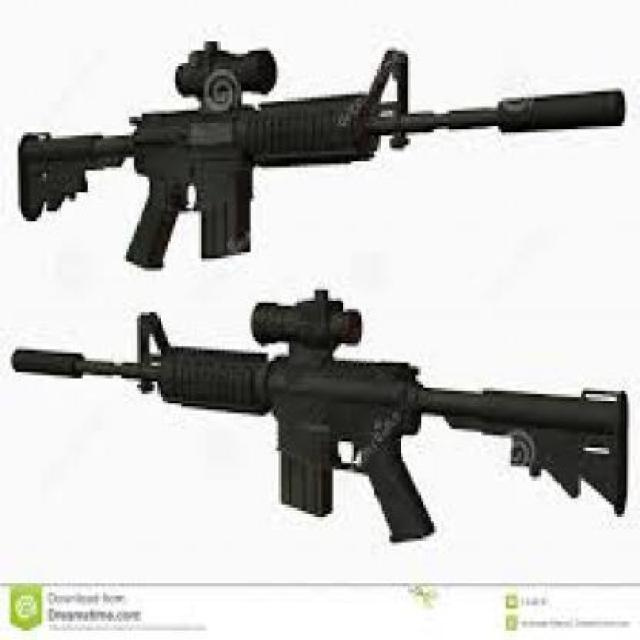weapon: (10, 290, 632, 548), (20, 25, 632, 281)
